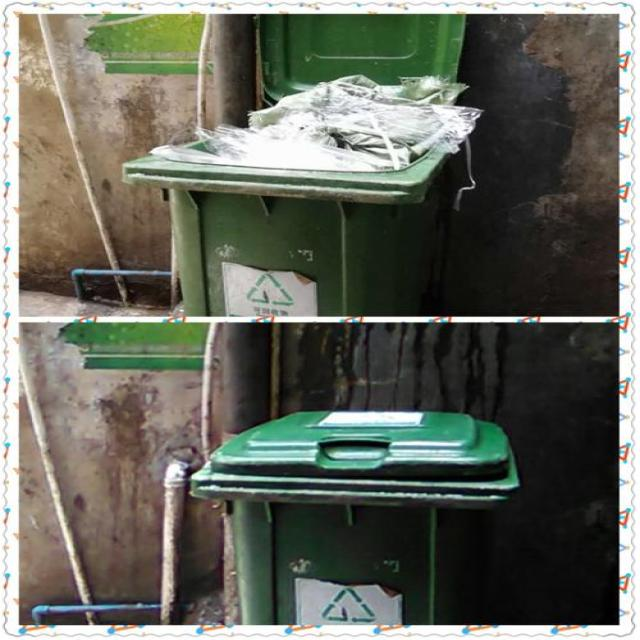garbage_bin: (188, 411, 517, 622)
overflow: (115, 73, 483, 315)
